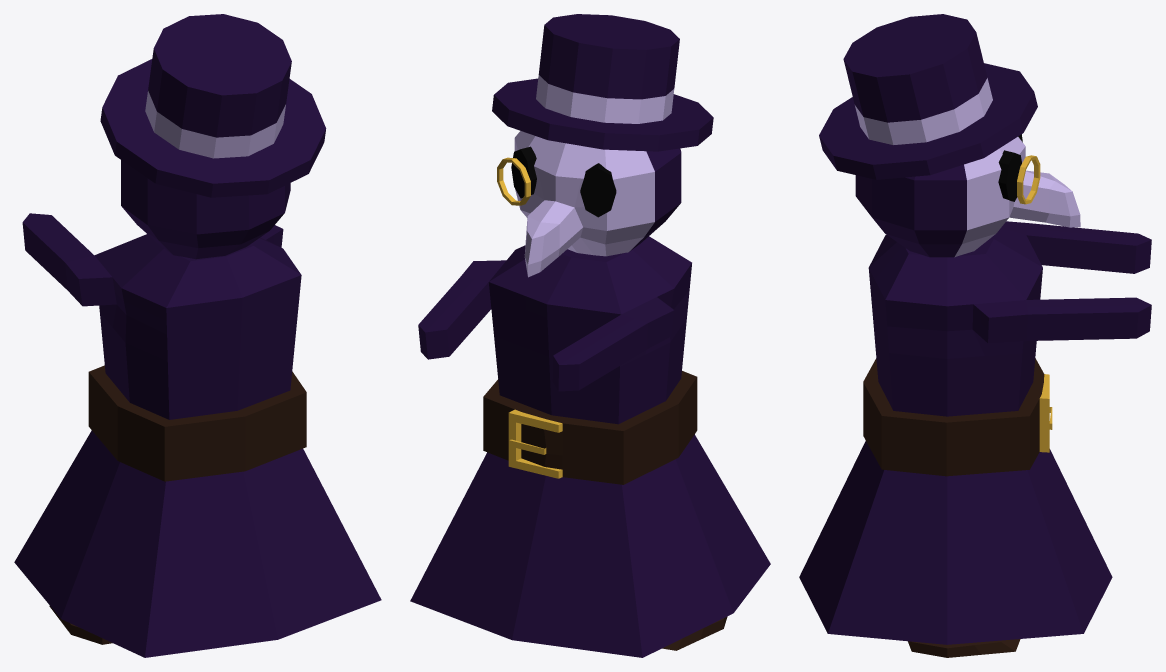
Rendered from Protag (1).fbx.
The picture shows the model from 3 angles, left to right: view 1: azimuth 30°, elevation 25°; view 2: azimuth 150°, elevation 25°; view 3: azimuth 270°, elevation 25°; orthographic projection. The views are drawn at different scales.
Visible parts, largest first — view 1: Cube.001; view 2: Cube.001; view 3: Cube.001.
Part boxes in pixels (<box>): Cube.001: <box>14,14,381,657</box>; Cube.001: <box>410,14,770,657</box>; Cube.001: <box>799,14,1151,657</box>.
Size of the model in its own units: 95.9 by 186 by 106.
